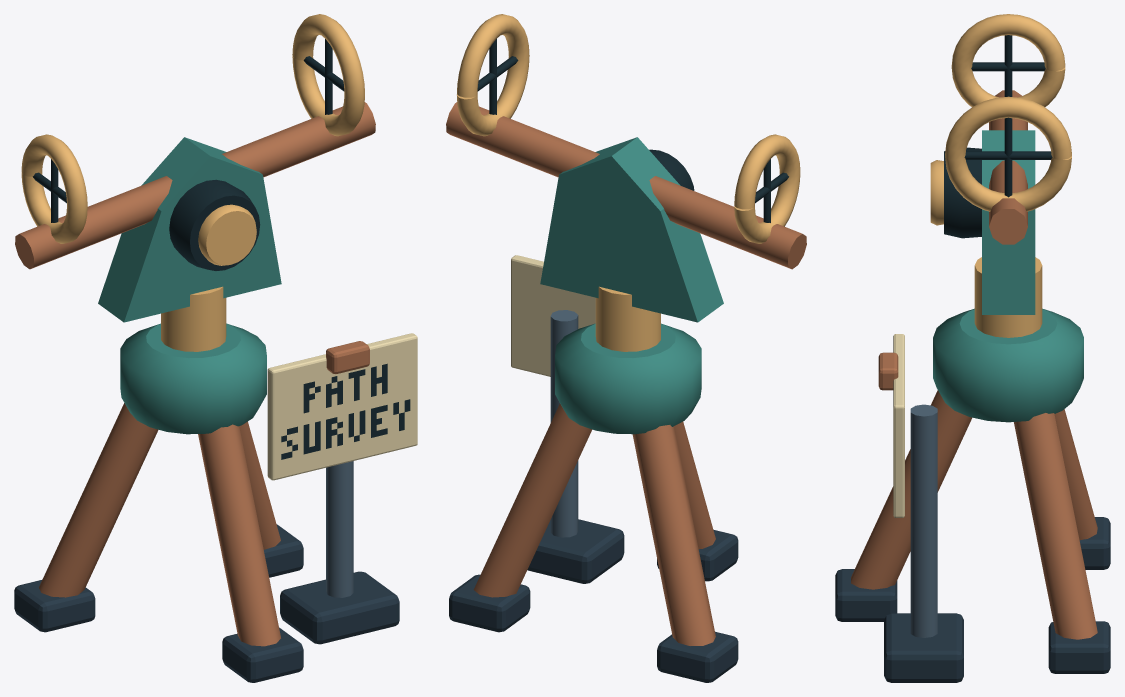
3 views of the same model, side by side, from view 1: azimuth 30°, elevation 25°; view 2: azimuth 150°, elevation 25°; view 3: azimuth 270°, elevation 25° (orthographic). The views are drawn at different scales.
Parts seen in each view (by area): view 1: PR063 enamel and hardware; view 2: PR063 enamel and hardware; view 3: PR063 enamel and hardware.
Part boxes in pixels (box(x1,y1,x2,y2)): PR063 enamel and hardware: box(14, 14, 417, 682); PR063 enamel and hardware: box(446, 14, 806, 682); PR063 enamel and hardware: box(835, 14, 1110, 682).
Bounding box in the file's own units: 0.8625 × 1.35 × 0.5801.
